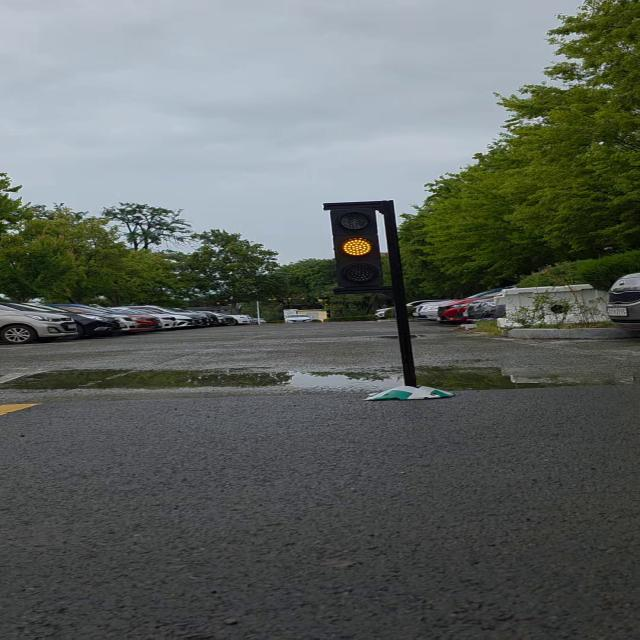yellow: (325, 202, 391, 294)
